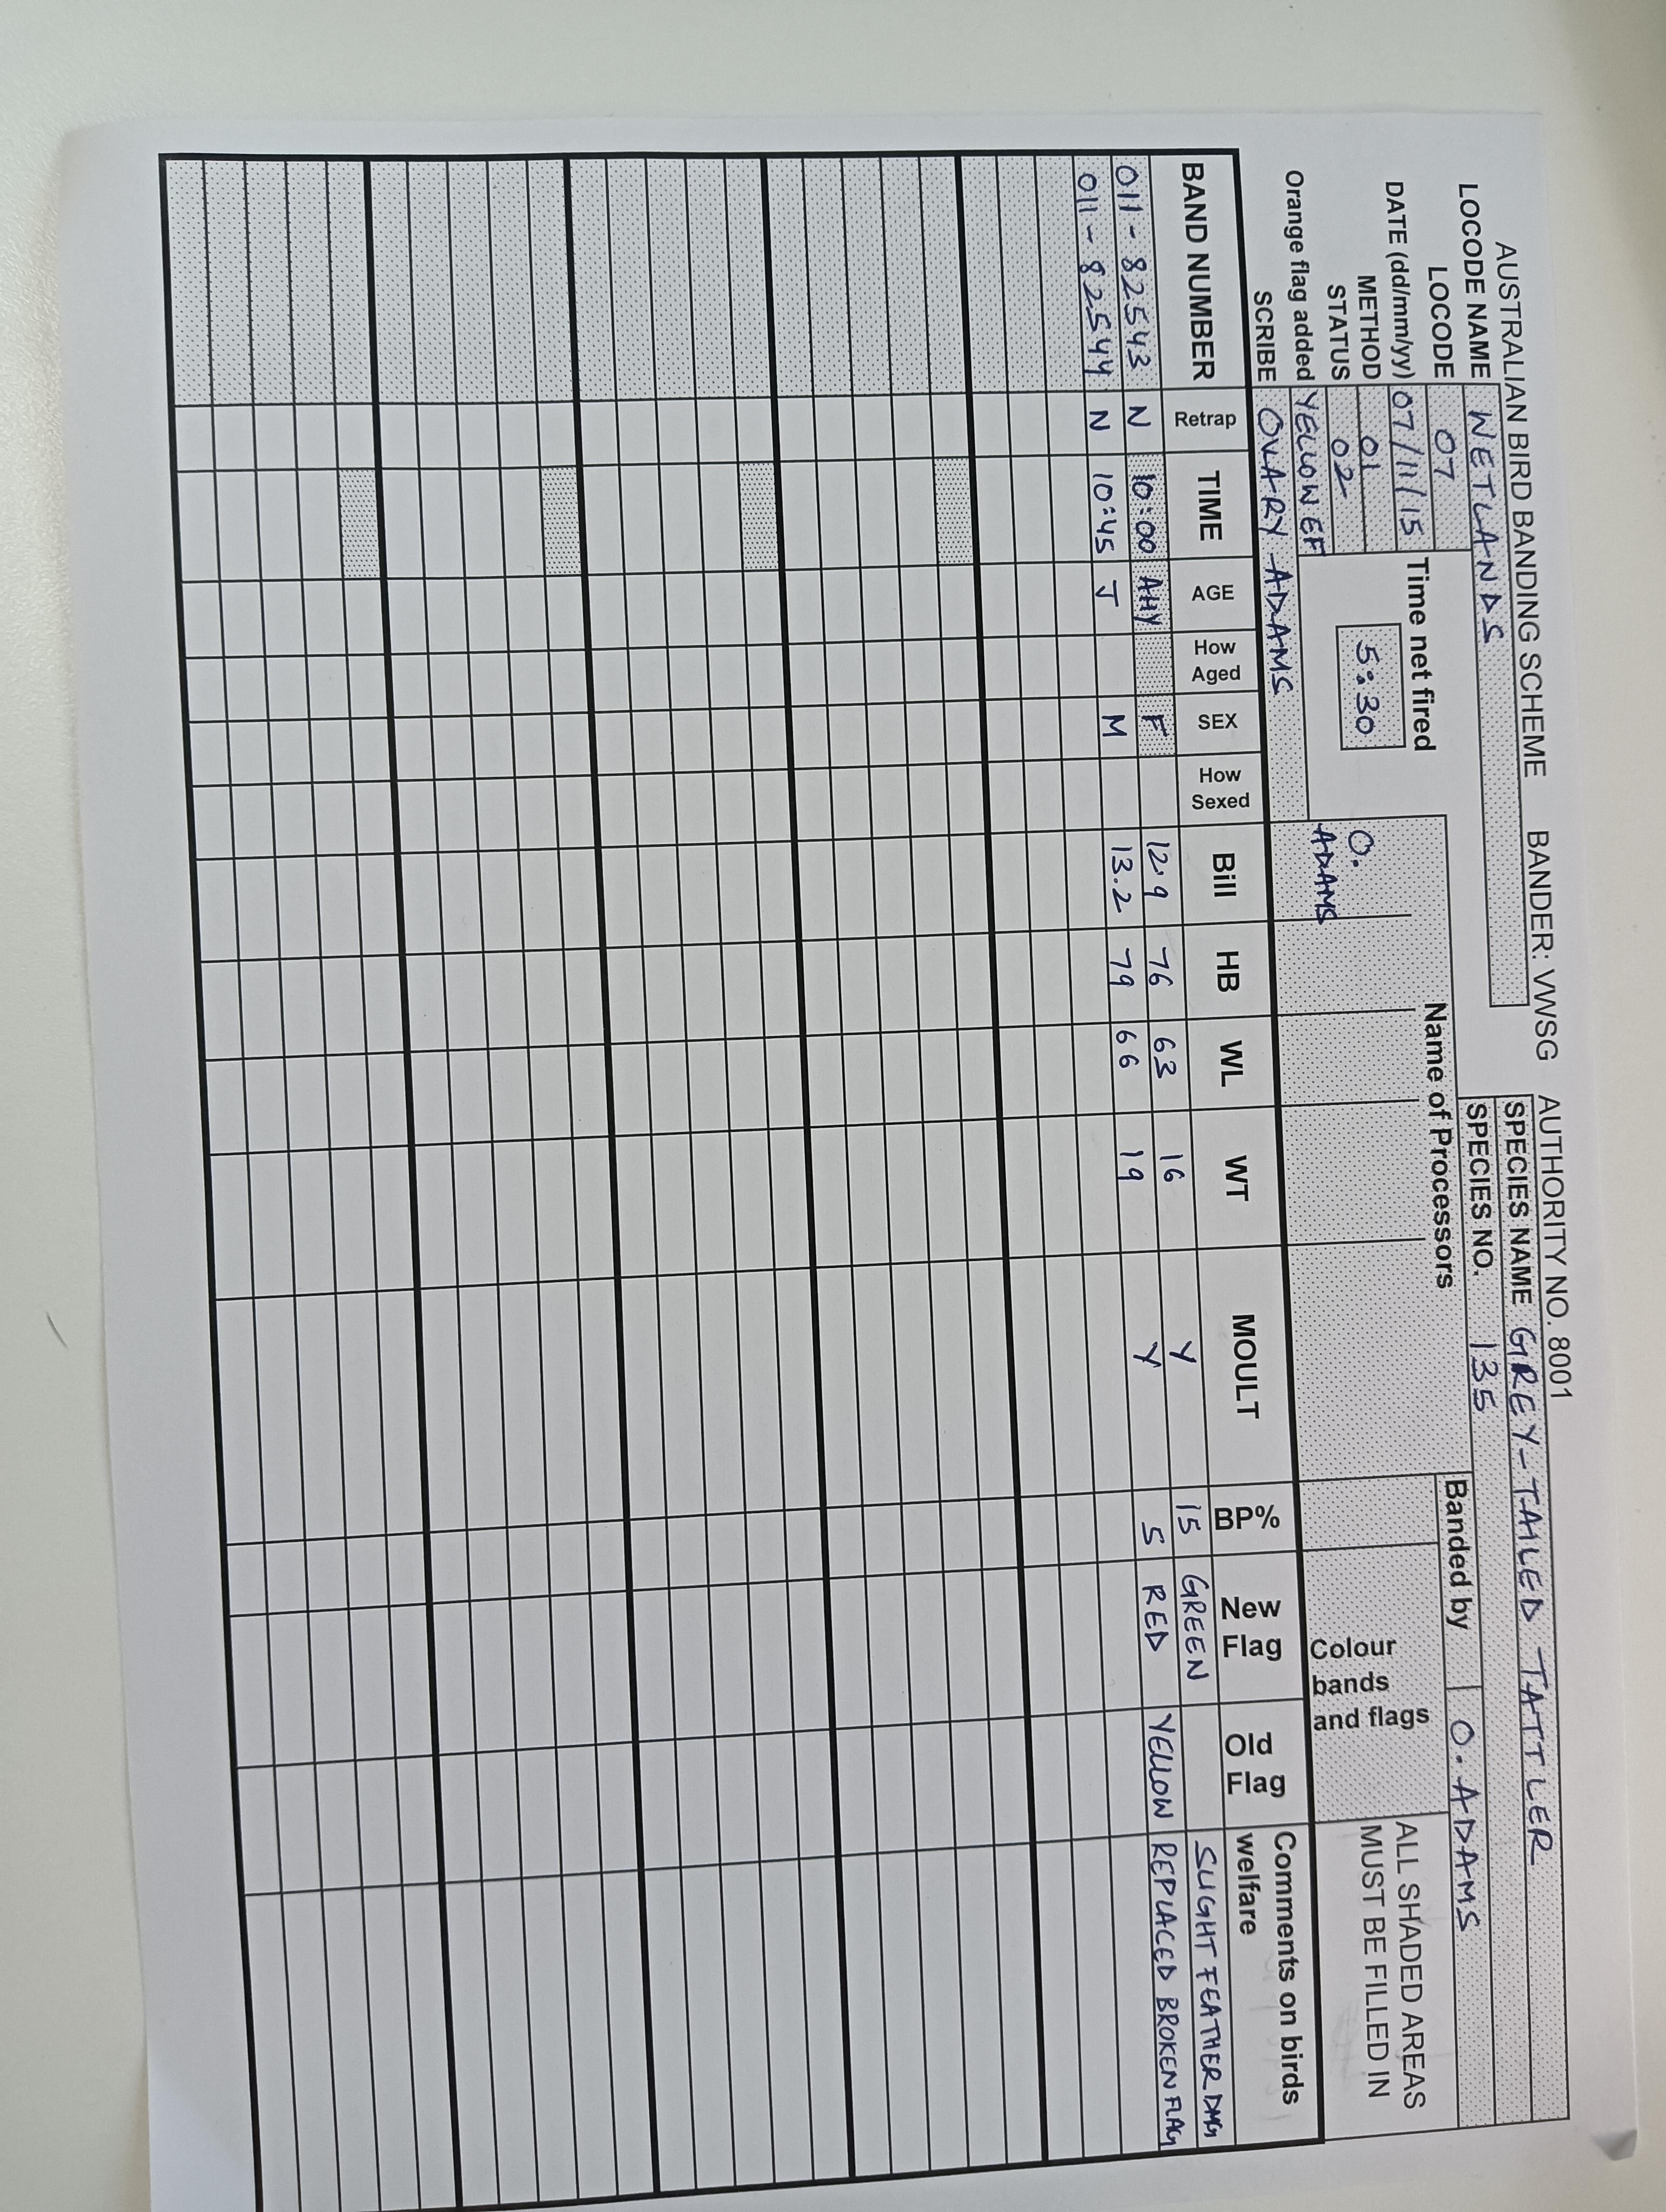BANDED_BY: (1435, 1462, 1498, 2135)
DATA: (1111, 154, 1234, 2154), (1076, 152, 1197, 2156)
DATE: (1381, 170, 1433, 554)
LOCOCODE: (1419, 227, 1475, 554)
LOCOCODE_NAME: (1449, 156, 1529, 1005)
METHOD: (1355, 261, 1396, 553)
NAME_OF_PROCESSORS: (1274, 818, 1407, 922)
ORANGE_FLAG_ADDED: (1283, 157, 1325, 558)
SCRIBE: (1249, 276, 1309, 817)
SPECIES_NAME: (1495, 1096, 1573, 2125)
SPECIES_NO: (1454, 1098, 1535, 2128)
STATUS: (1321, 275, 1370, 554)
TIME_NET_FIRED: (1316, 556, 1456, 769)
